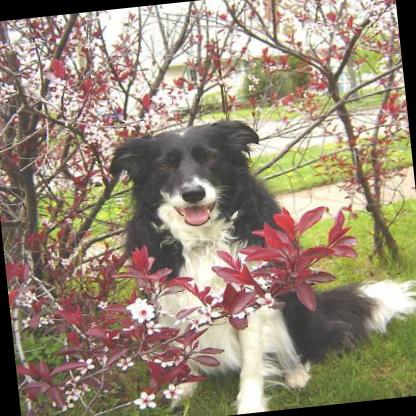Border_collie: (94, 94, 416, 416)
